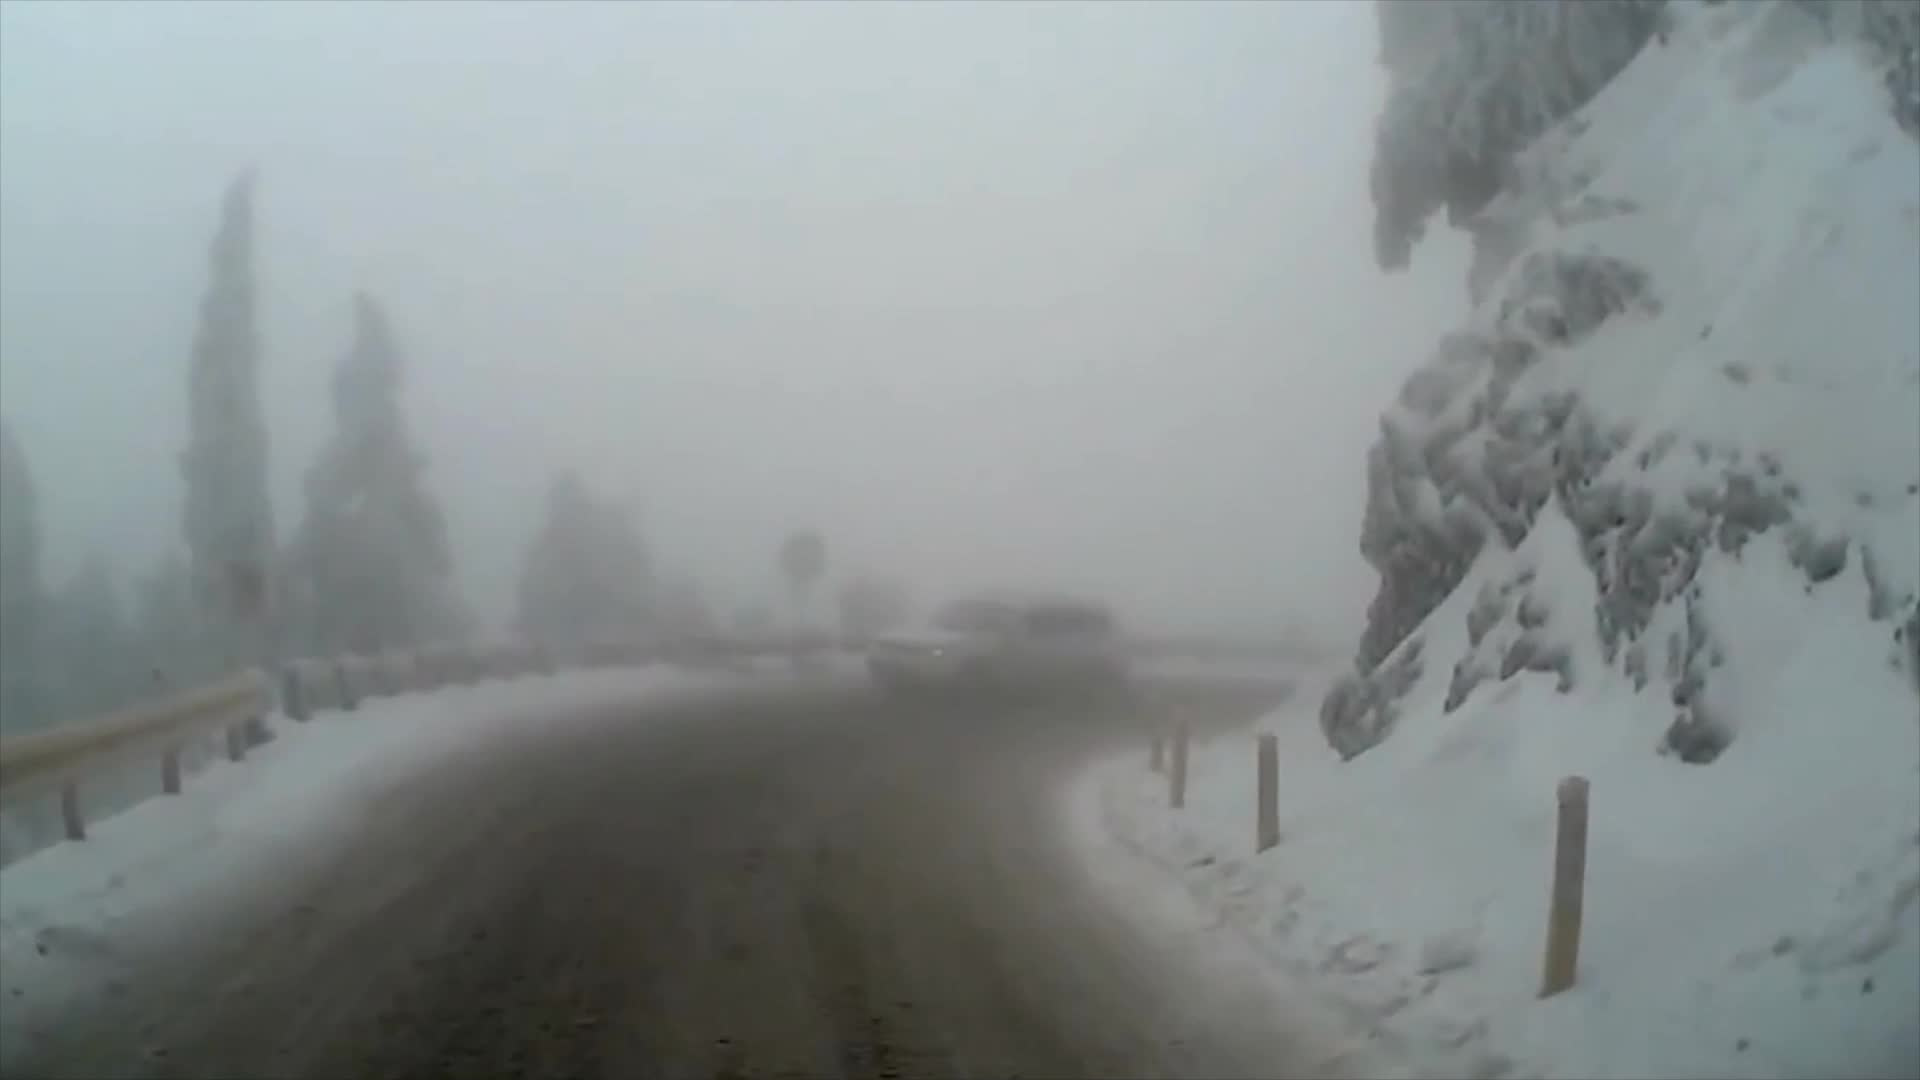vehicle: (861, 588, 1130, 713)
